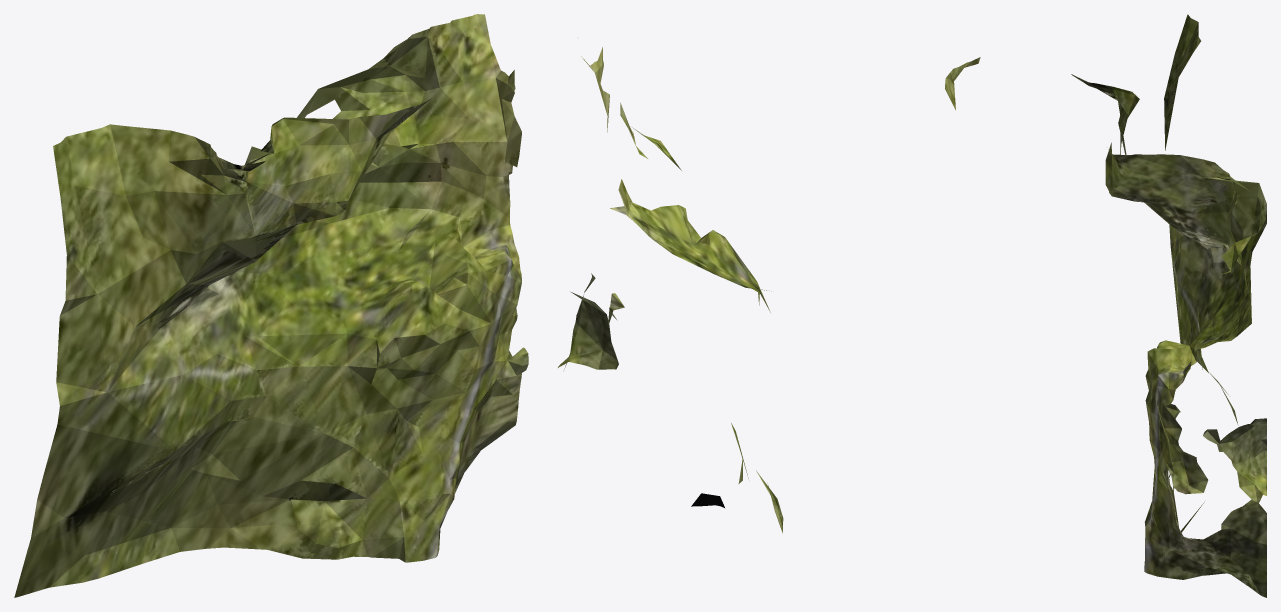
The picture shows the model from 3 angles, left to right: view 1: azimuth 30°, elevation 25°; view 2: azimuth 150°, elevation 25°; view 3: azimuth 270°, elevation 25°; orthographic projection. The views are drawn at different scales.
Bounding box in the file's own units: 2.95 × 2.95 × 1.28.
Materials: 4 (4 with a texture image).
